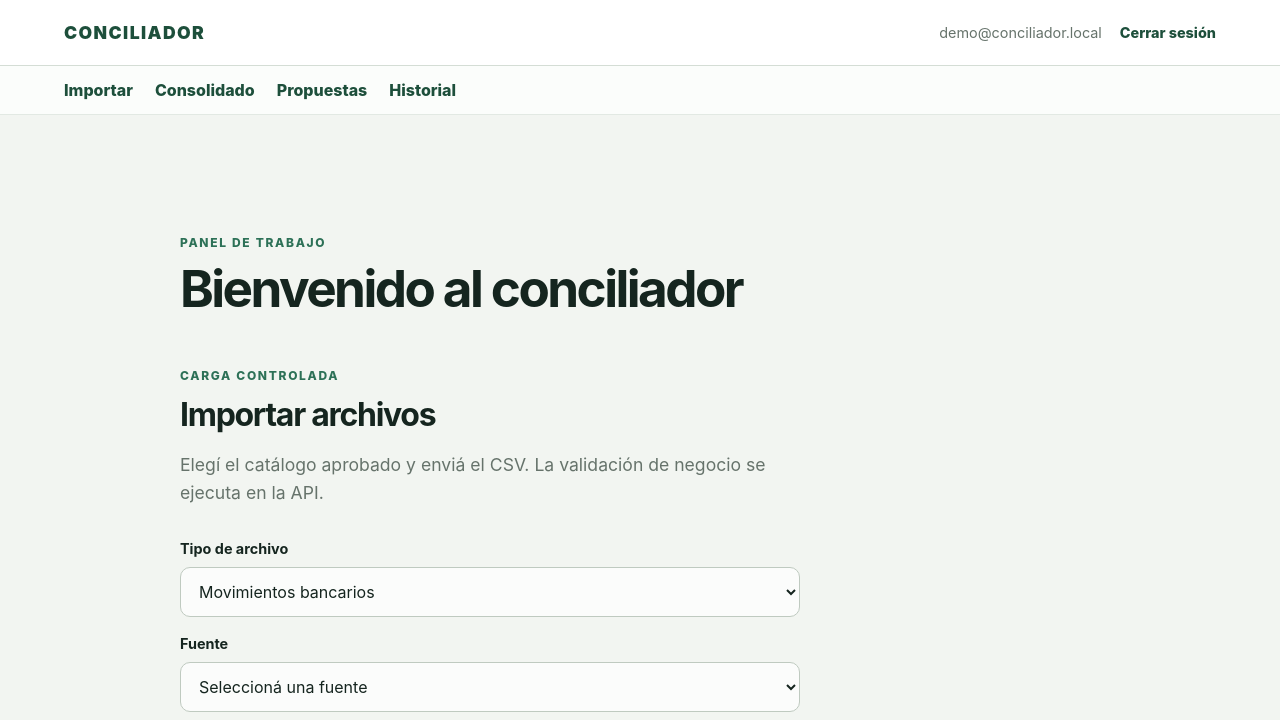
MVP-09 import workflows › selects catalogs for both approved CSV types
The image size is (1280, 720).
Select "Banco demo" in the dropdown labelled "Fuente" at (490, 687), box [180,662,800,712]
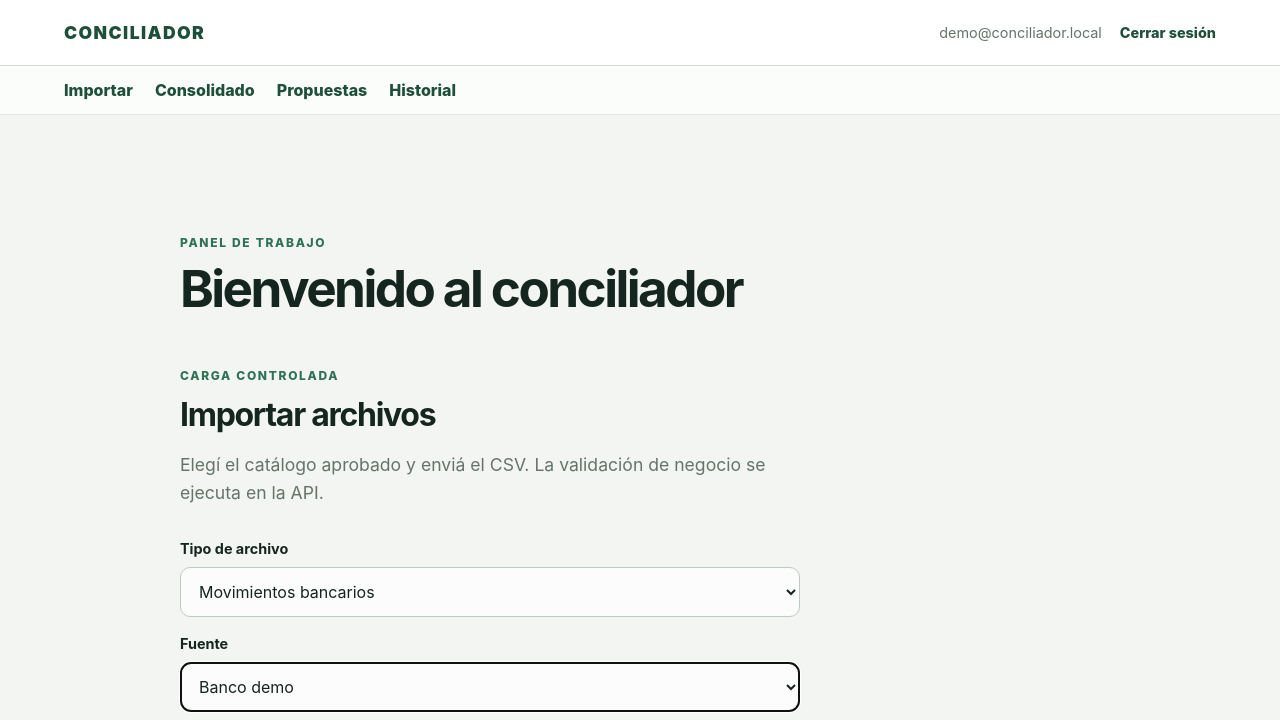
Select "Comprobantes" in the dropdown labelled "Tipo de archivo" at (490, 592), box [180,567,800,617]
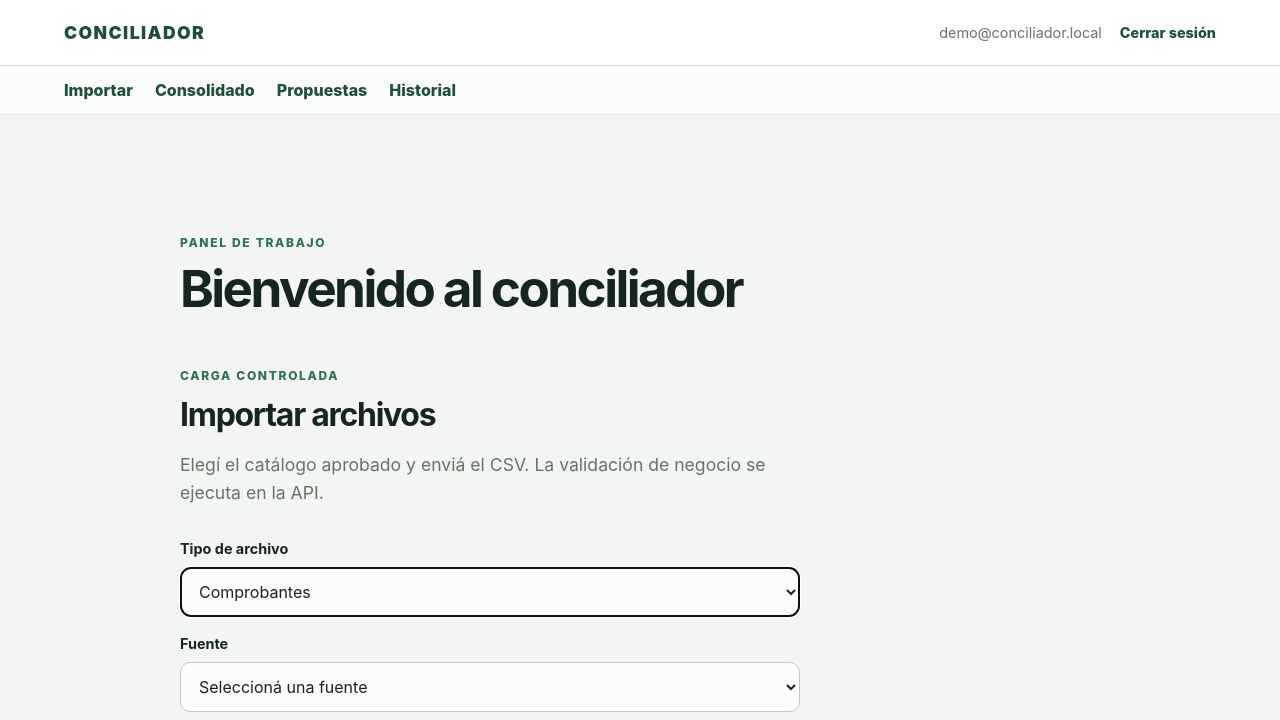
Select "Comprobantes demo" in the dropdown labelled "Fuente" at (490, 687), box [180,662,800,712]
(page scrolled)
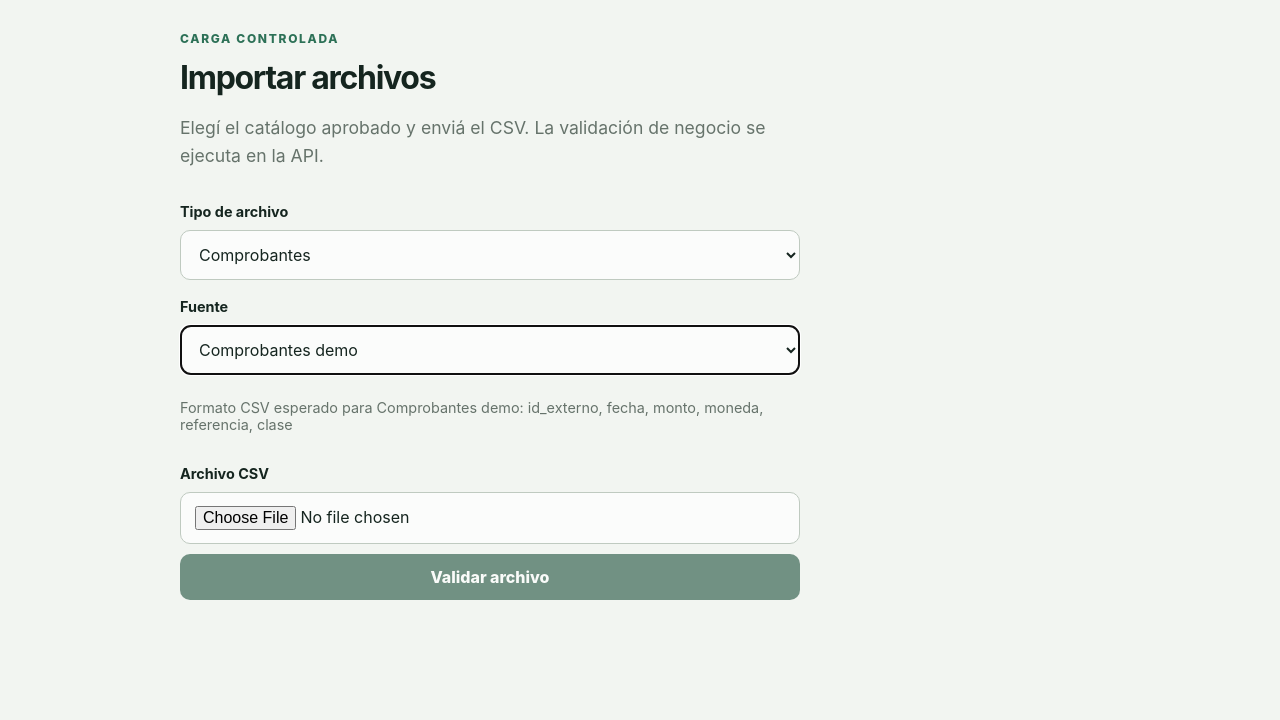
Result: the text "Formato CSV esperado para Comprobantes demo" shows "id_externo, fecha, monto, moneda, referencia, clase" at [180,399,763,433]
